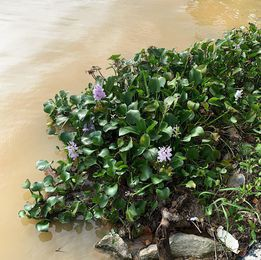water_hyacinth: (25, 44, 222, 226)
